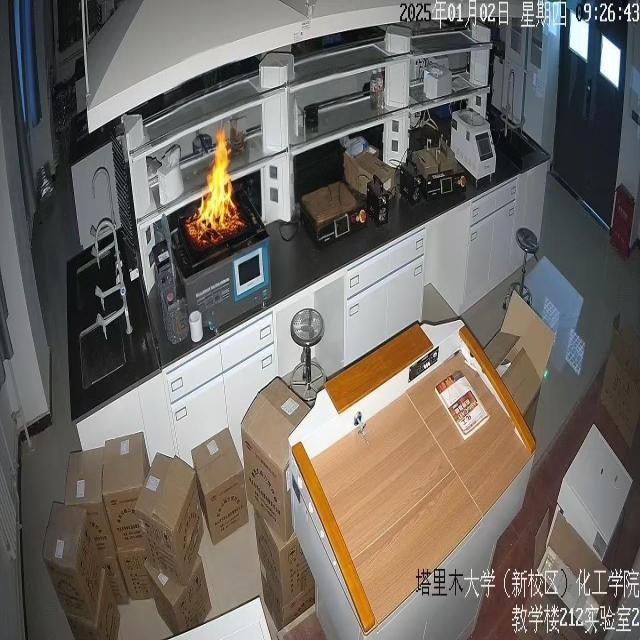smoke: (186, 126, 238, 239)
